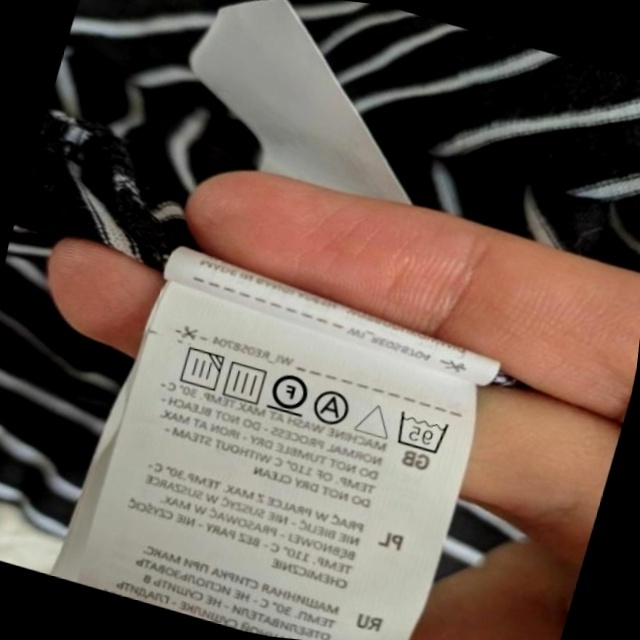95C: (388, 406, 453, 458)
bleach: (353, 394, 397, 444)
drip_dry: (218, 356, 272, 408)
drip_dry_in_shade: (172, 341, 227, 396)
dry_clean: (309, 385, 356, 430)
dry_clean_petrol_only: (264, 365, 314, 420)
